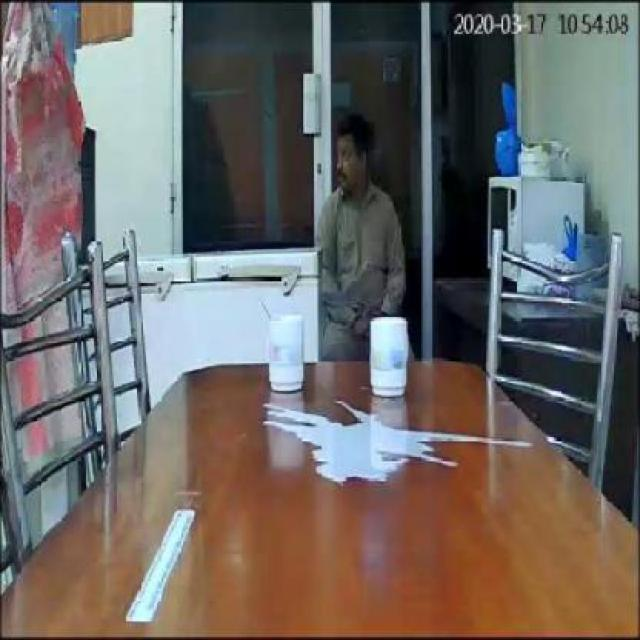spillage: (264, 401, 501, 487)
